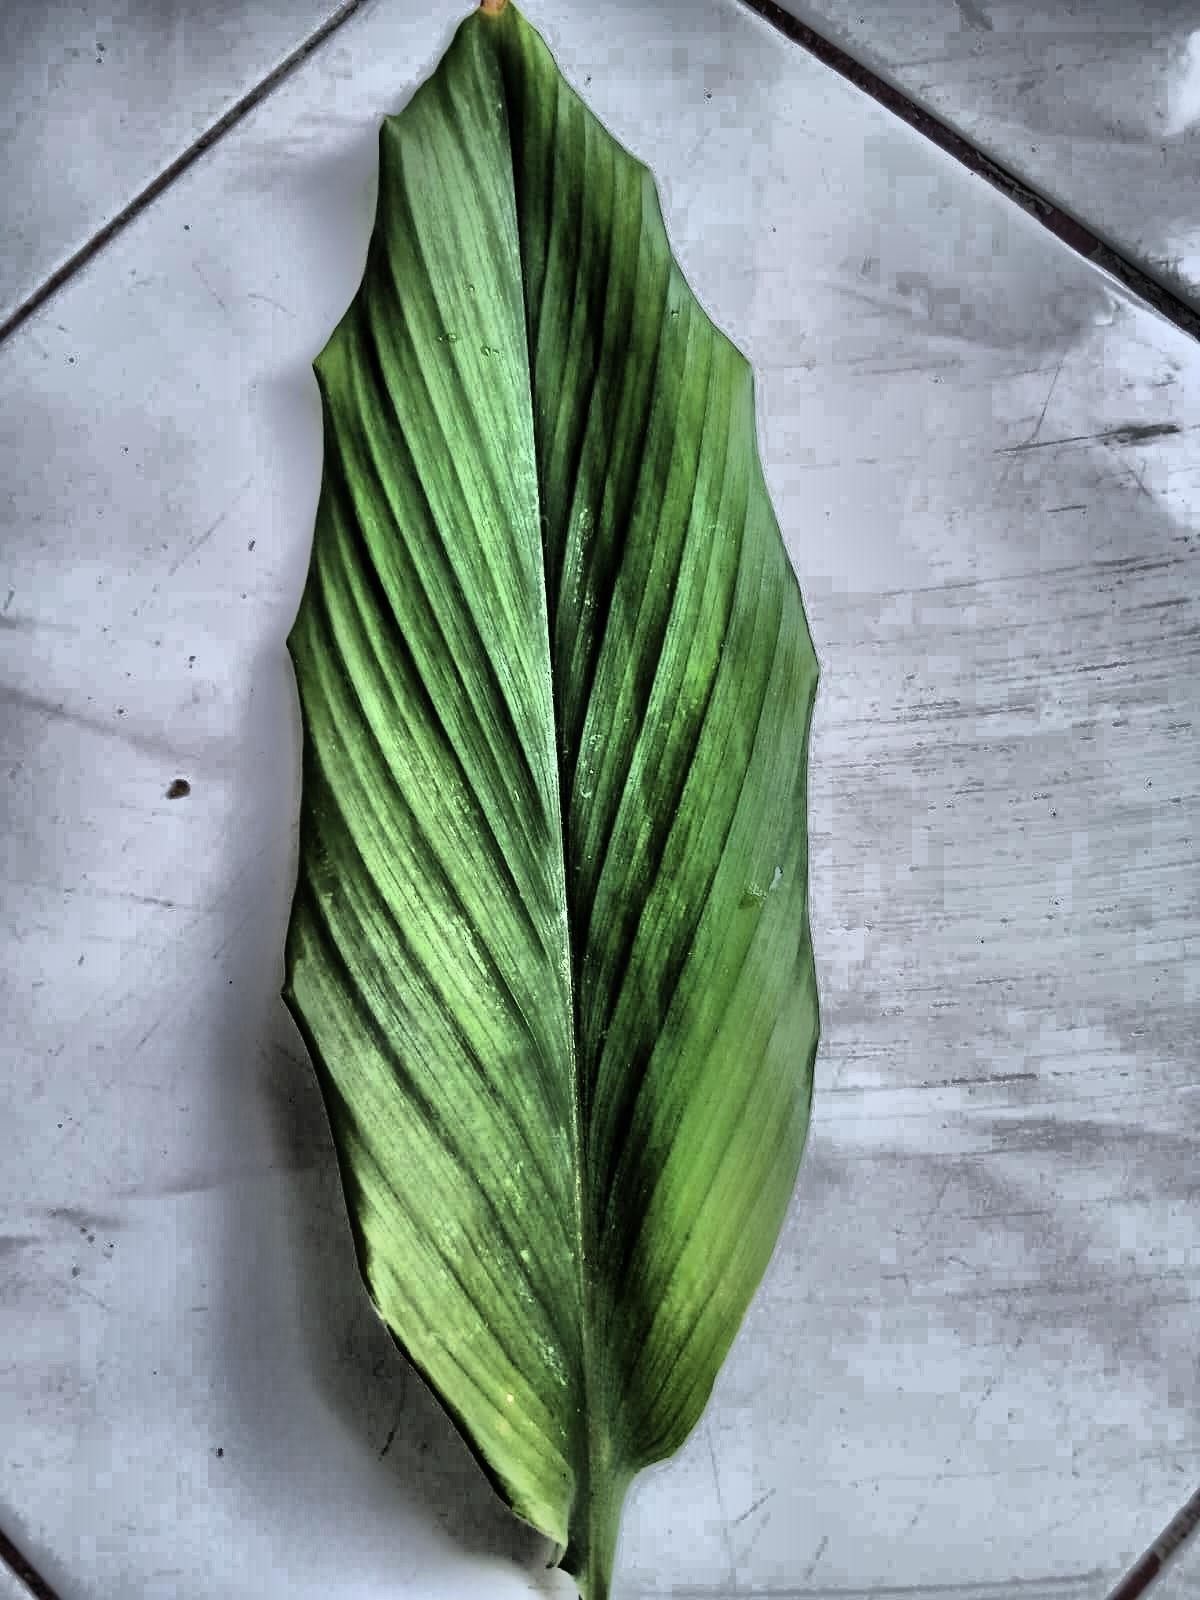daun kunyit: (285, 0, 818, 1599)
